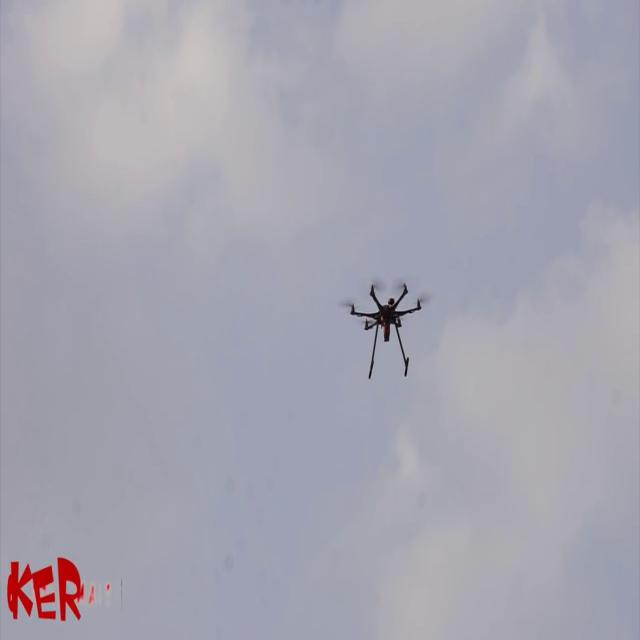drone: (346, 270, 428, 396)
